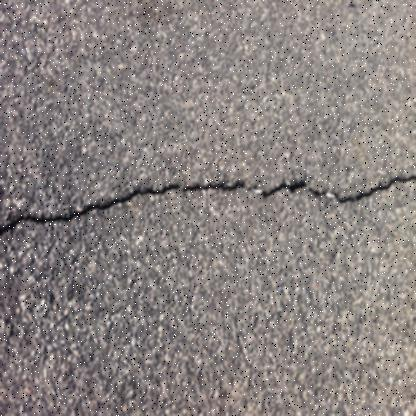Cracks: (0, 166, 415, 240)
